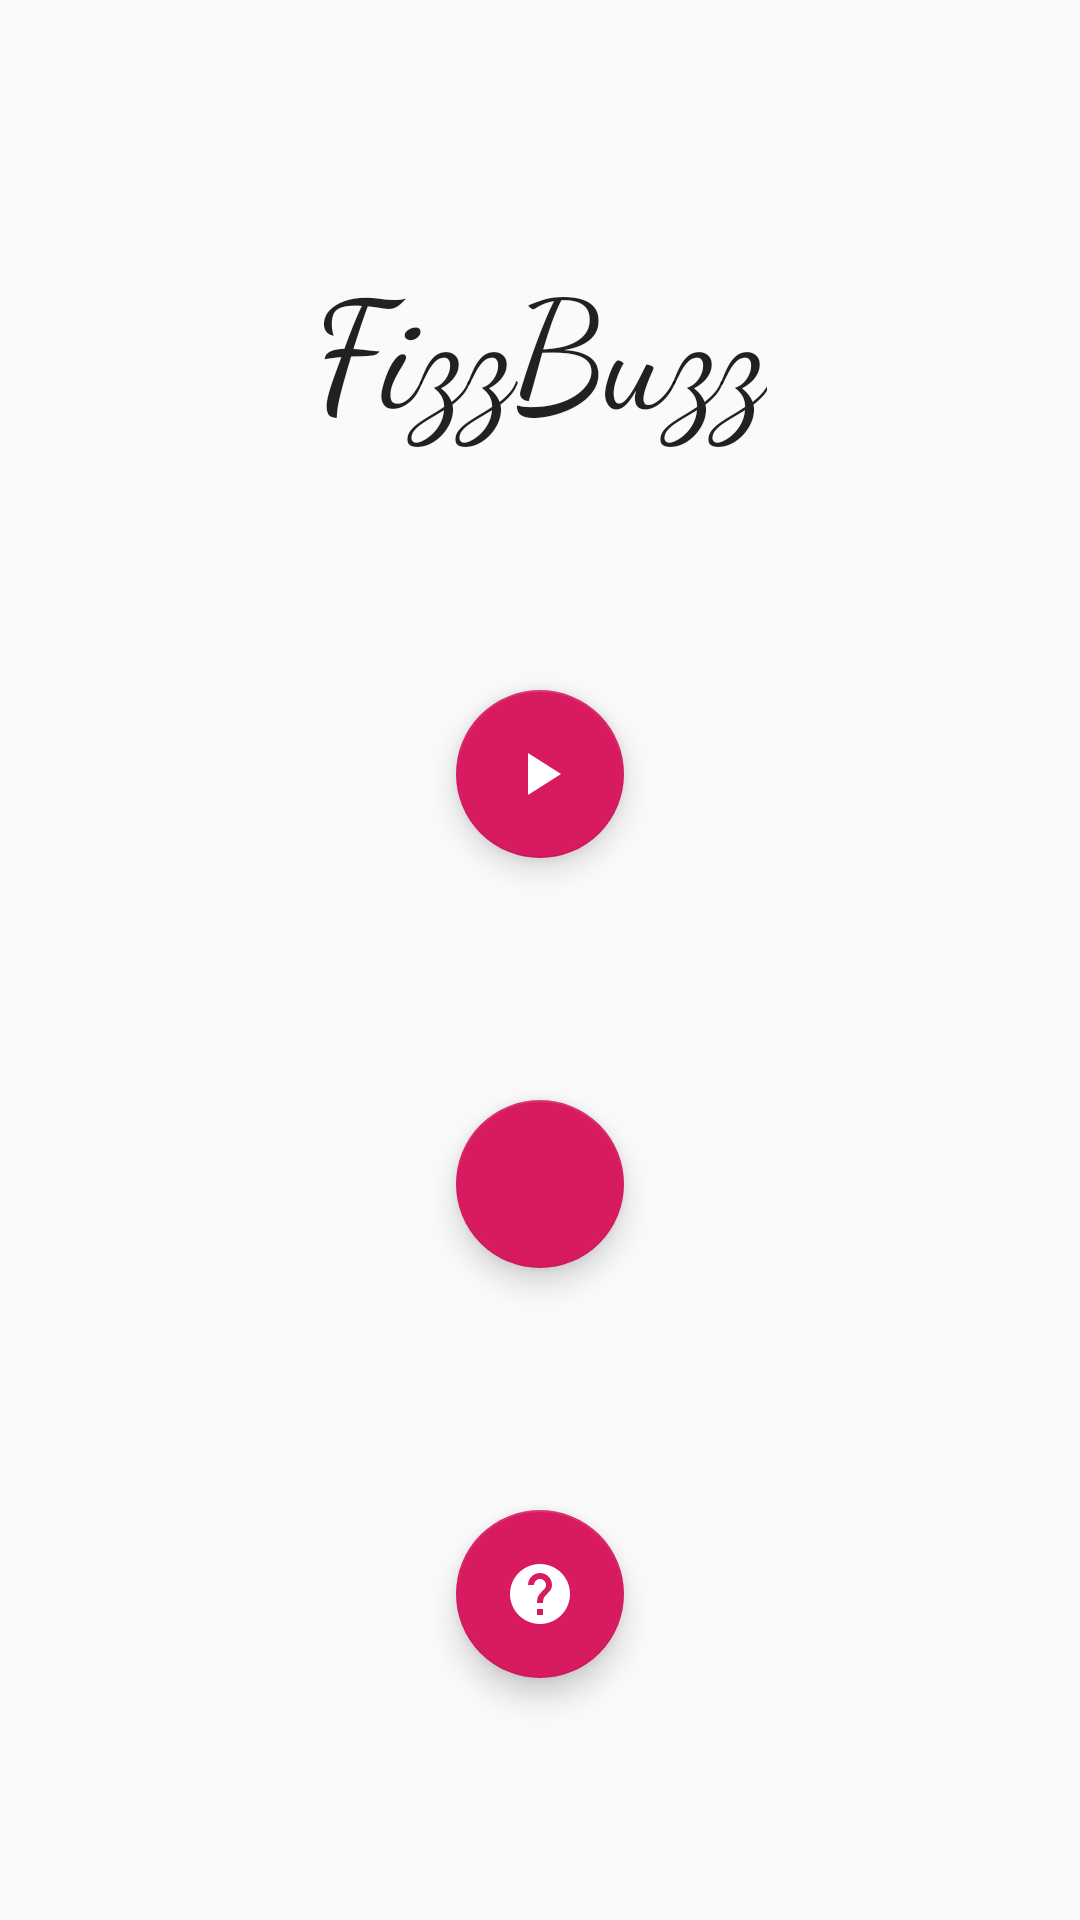

Named icons in this screenshot (1080x1920) and their centers, point (x, y):
help: point (540, 1594)
play: point (540, 774)
